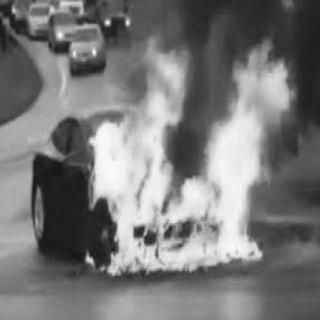Fire: (83, 26, 299, 278)
Smoke: (133, 3, 315, 36)
